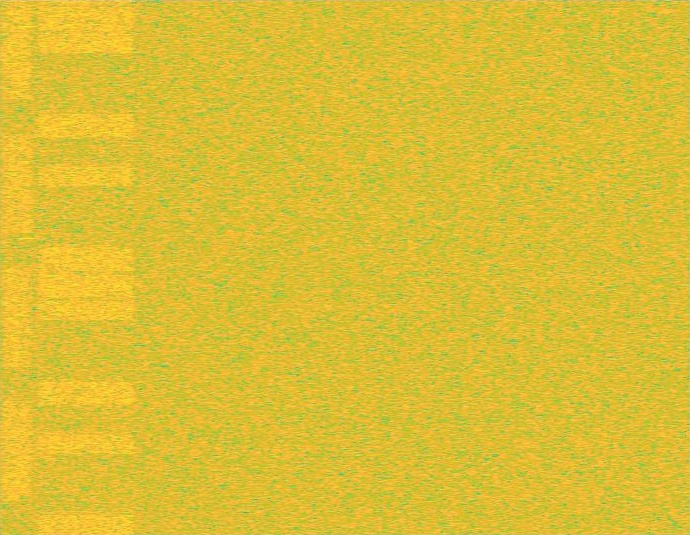5G: (0, 0, 35, 534)
LTE: (35, 0, 138, 534)
Radar: (20, 0, 34, 534)
